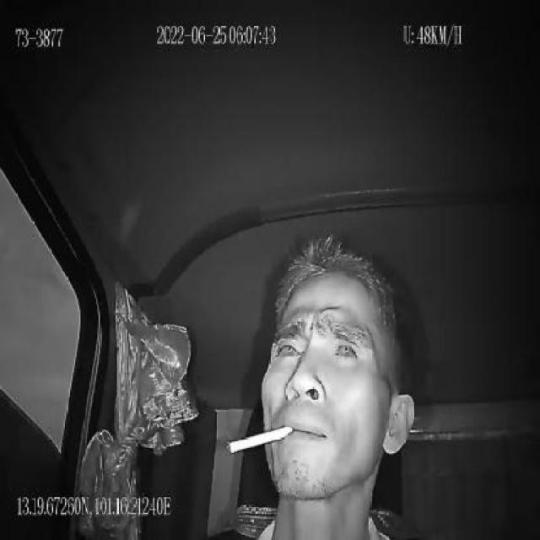smoking: (228, 421, 294, 462)
